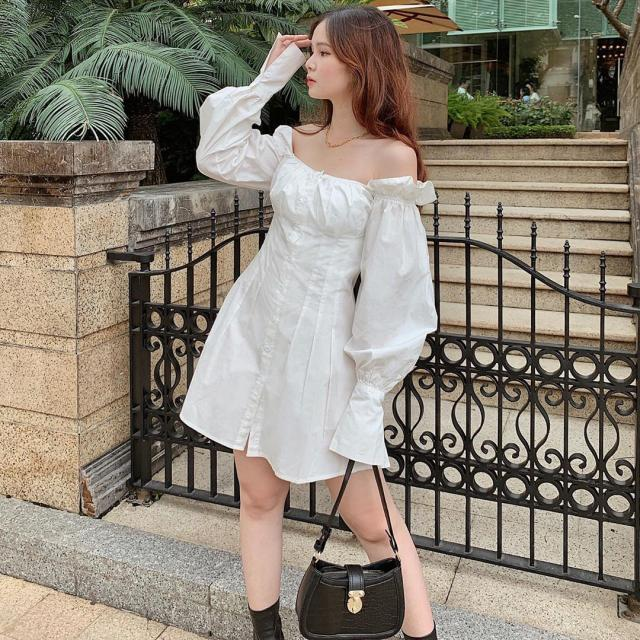clothes: (179, 120, 437, 486)
